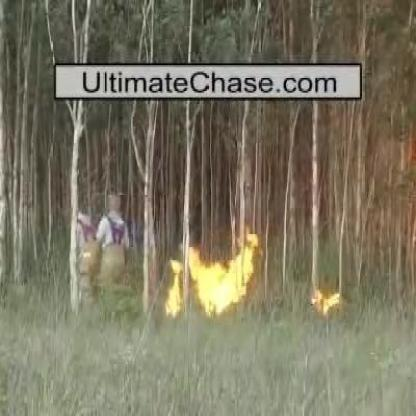foggia-v2-map80-epoch100 - v1 4323: (188, 234, 257, 318), (166, 262, 181, 316), (312, 294, 340, 314)
